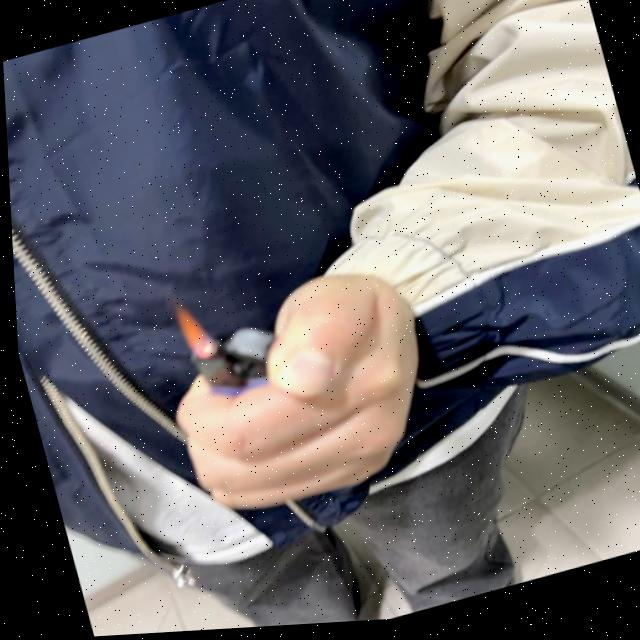Fire: (165, 291, 216, 365)
